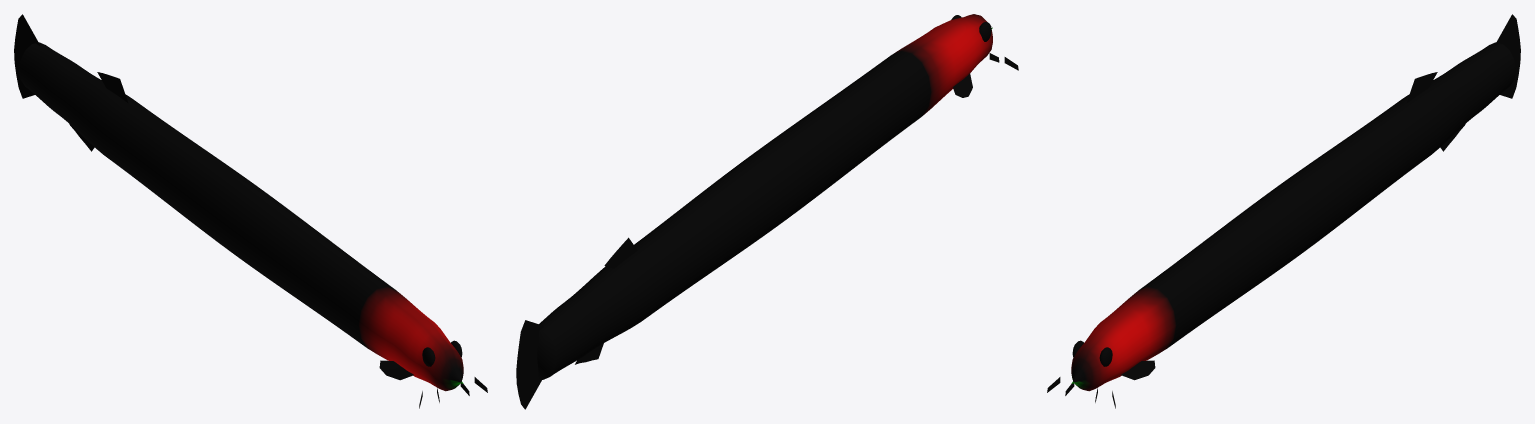
File: kuhli-loach.glb
3 renders of one model, left to right at view 1: azimuth 30°, elevation 25°; view 2: azimuth 150°, elevation 25°; view 3: azimuth 330°, elevation 25°, orthographic. The views are drawn at different scales.
Visible parts, largest first — view 1: kuhli_body, kuhli_caudal; view 2: kuhli_body, kuhli_caudal; view 3: kuhli_body, kuhli_caudal.
Part boxes in pixels (<box>): kuhli_body: <box>19,42,463,391</box>; kuhli_caudal: <box>14,14,39,98</box>; kuhli_body: <box>537,14,992,379</box>; kuhli_caudal: <box>516,320,543,409</box>; kuhli_body: <box>1071,42,1515,391</box>; kuhli_caudal: <box>1495,14,1520,98</box>.
Bounding box in the file's own units: 0.0926 × 0.1209 × 1.05.
